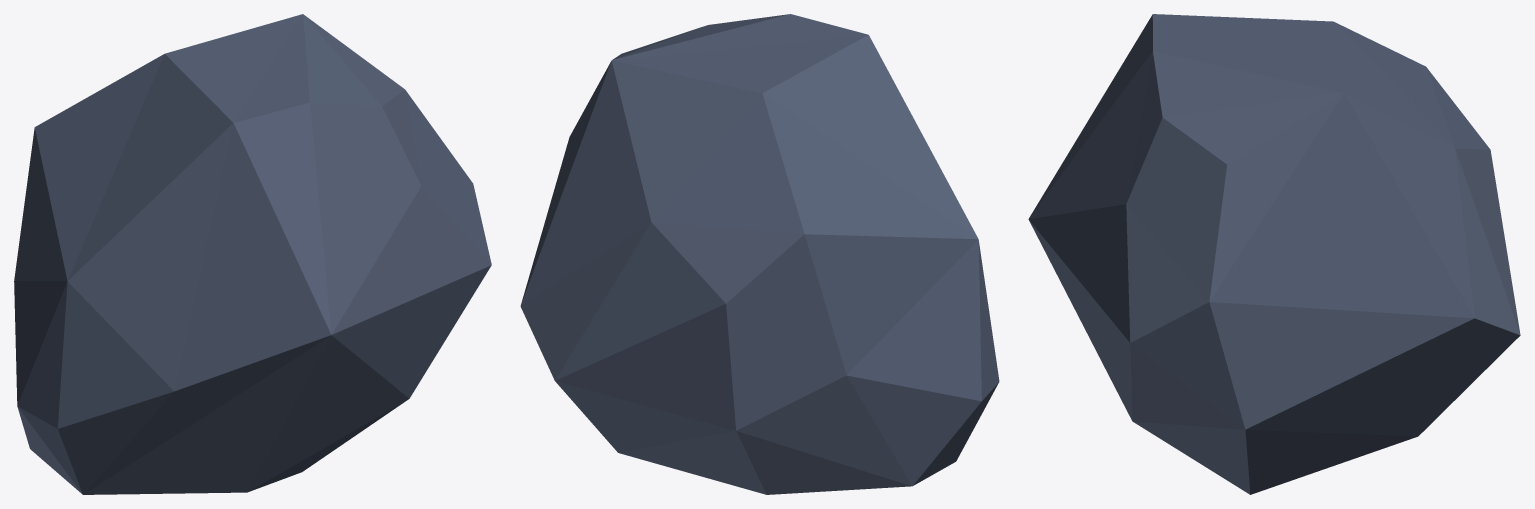
The model's file is rock4_col.FBX.
3 renders of one model, left to right at view 1: azimuth 30°, elevation 25°; view 2: azimuth 150°, elevation 25°; view 3: azimuth 270°, elevation 25°, orthographic. The views are drawn at different scales.
Visible parts, largest first — view 1: rock4_col; view 2: rock4_col; view 3: rock4_col.
Part boxes in pixels (<box>): rock4_col: <box>14,14,491,494</box>; rock4_col: <box>520,14,999,494</box>; rock4_col: <box>1028,14,1520,494</box>.
Size of the model in its own units: 185 by 152 by 173.
